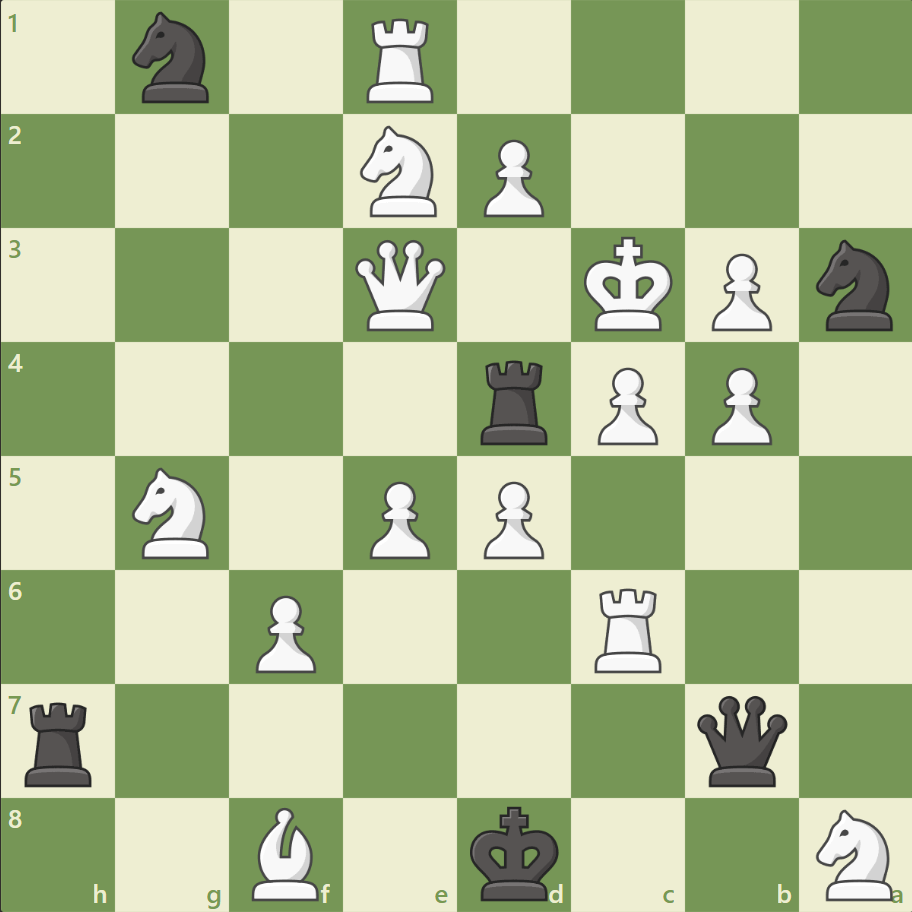B: (244, 801, 328, 904)
K: (579, 231, 679, 339)
N: (124, 461, 222, 564), (351, 121, 449, 223), (806, 802, 903, 904)
P: (247, 586, 322, 677), (474, 473, 549, 564), (701, 359, 776, 450), (701, 246, 776, 337), (474, 132, 549, 223), (361, 473, 435, 564), (588, 359, 662, 450)
Q: (351, 236, 450, 335)
R: (587, 579, 670, 676), (360, 12, 442, 109)
k: (465, 798, 565, 906)
n: (124, 7, 222, 110), (806, 234, 903, 337)
q: (691, 690, 790, 789)
r: (19, 693, 102, 790), (473, 352, 556, 449)
